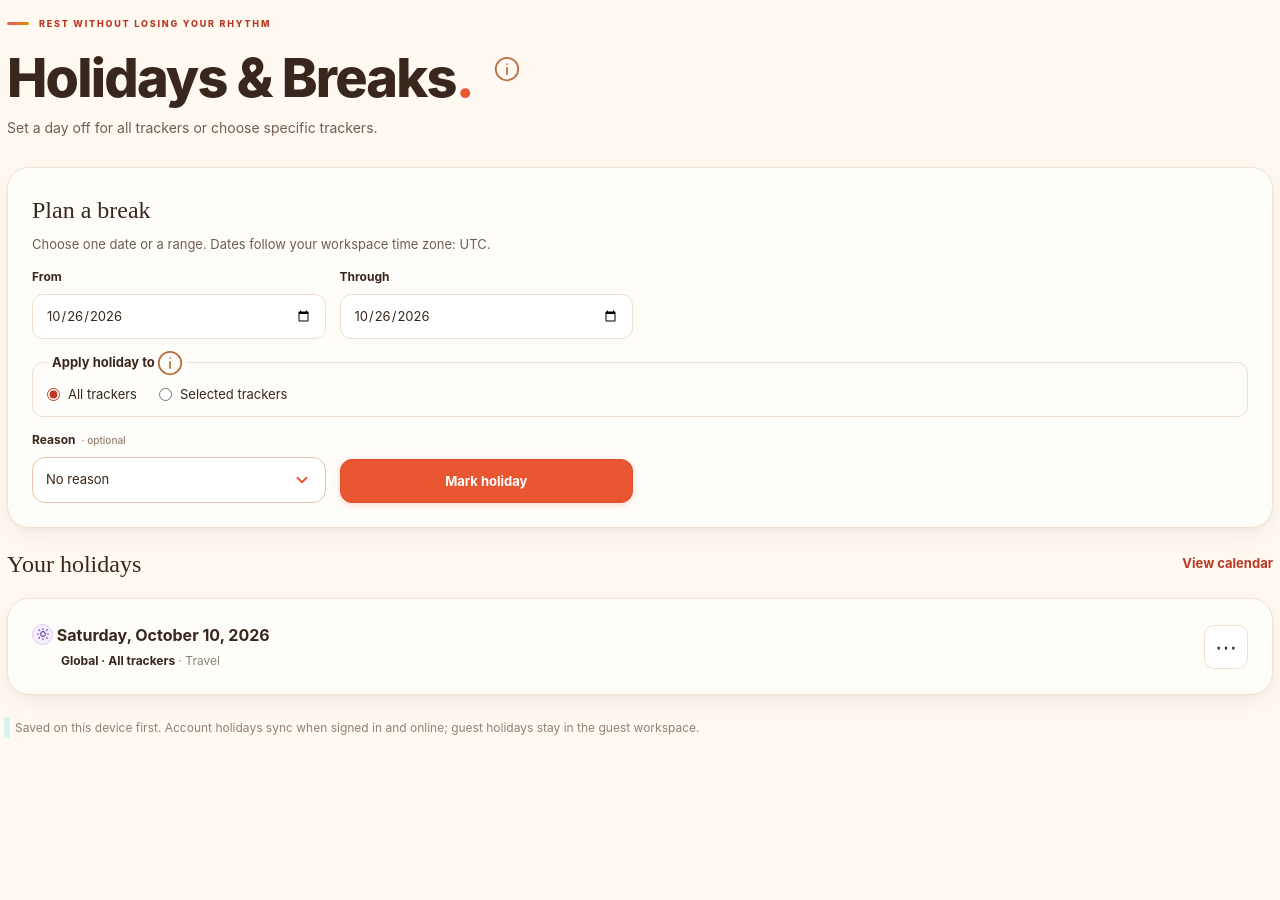
Test case: Manage Holidays › saves date only changes while preserving the holiday identity
The width and height of the screenshot is (1280, 900).
Step 1. Click the button named "More actions for 2026-10-10" → [1226, 646], box [1204,624,1248,668]
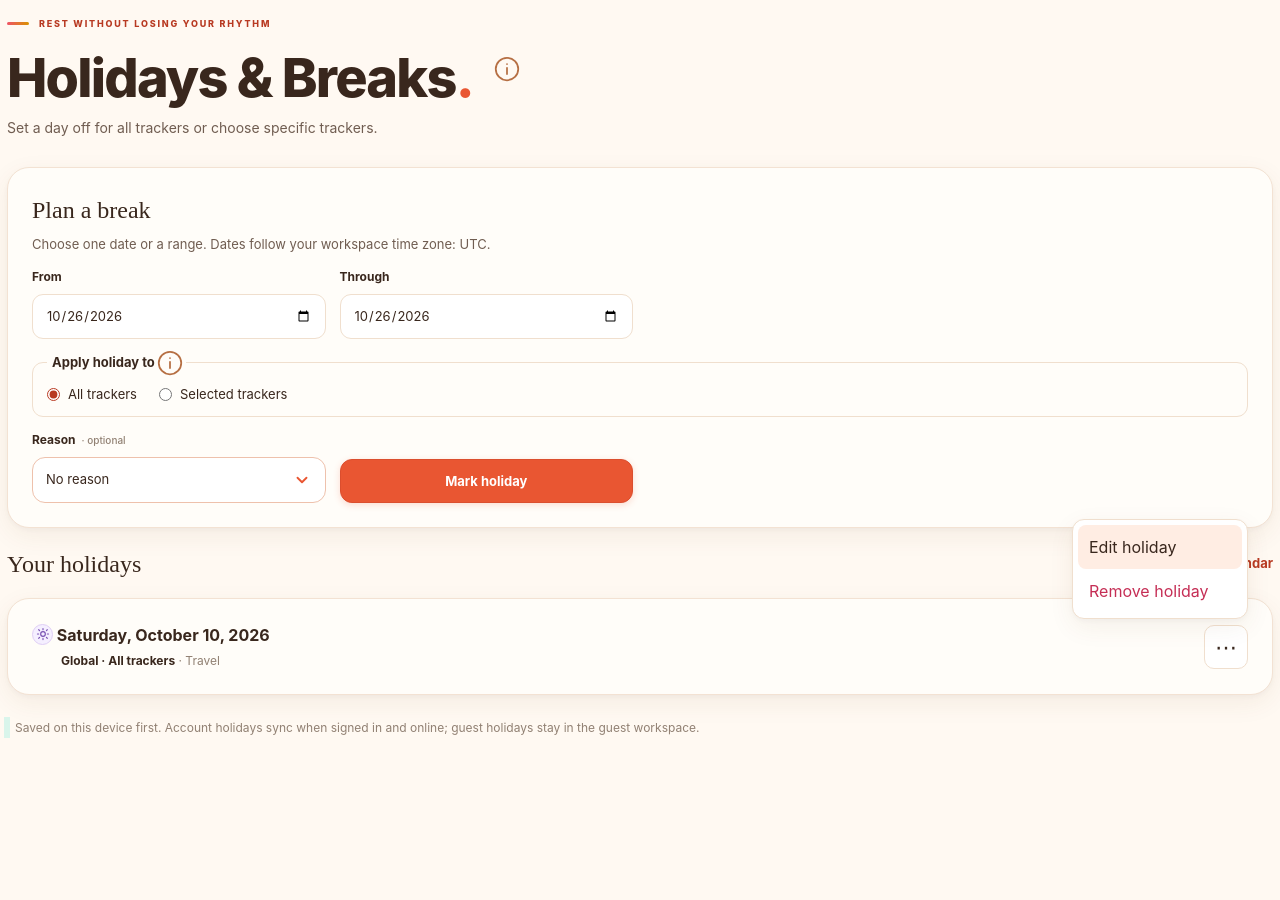
Step 2. Click the menu item "Edit holiday" → [1160, 546], box [1078,524,1242,568]
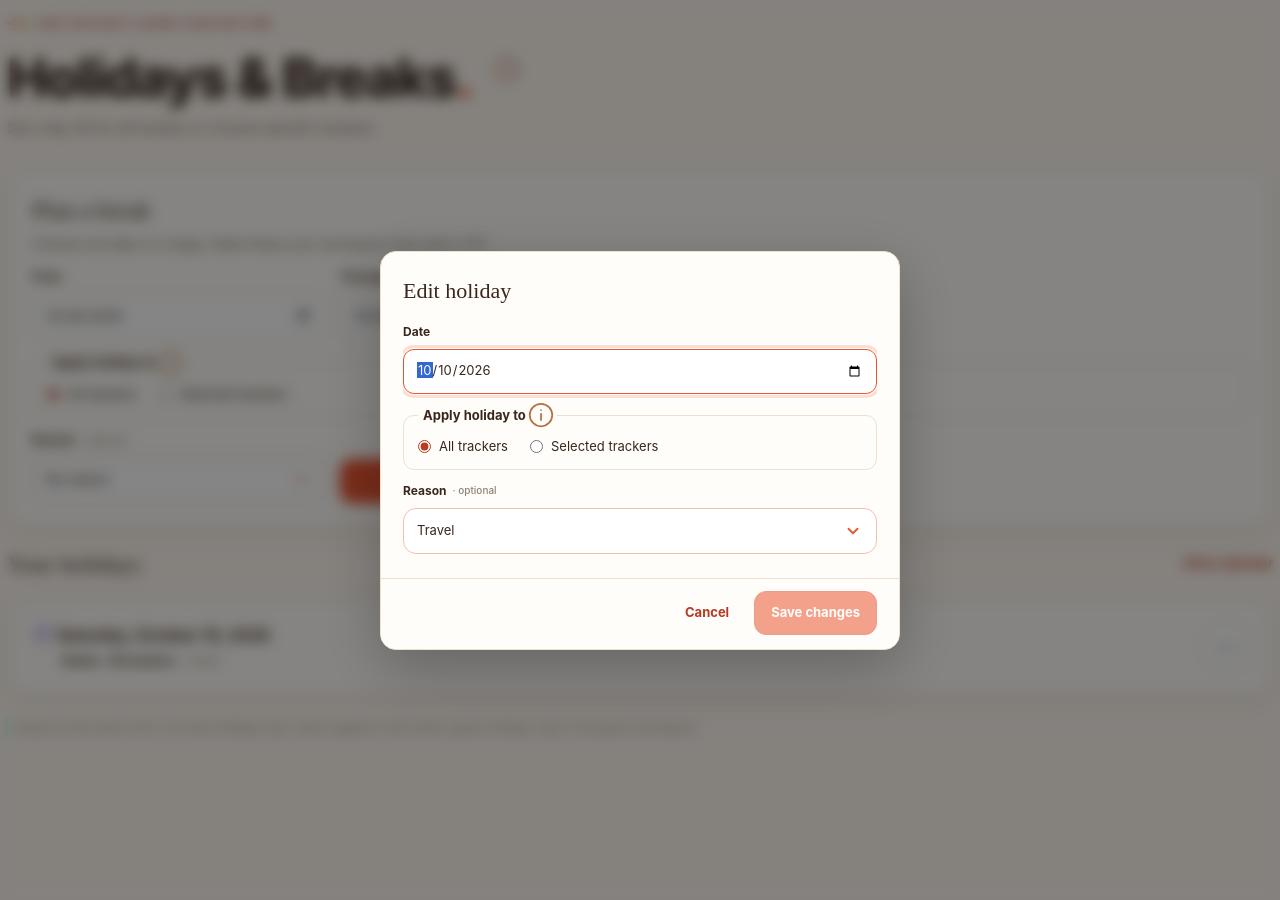
Step 3. Type "2026-10-11" into the date field labelled "Date" → [640, 371], box [403,348,877,394]
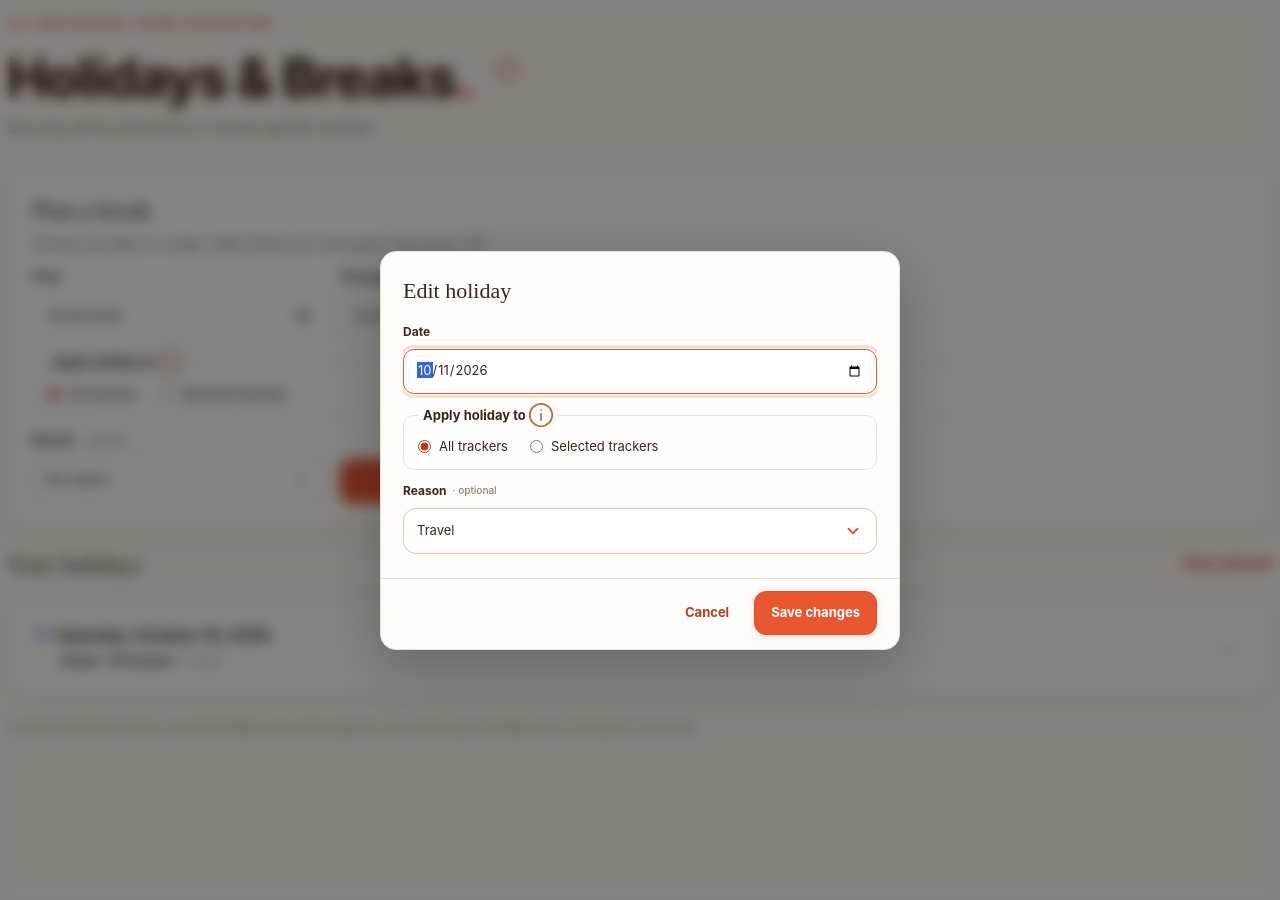
Step 4. Select "Travel" in the dropdown labelled "Reason" → [640, 530], box [403,508,877,554]
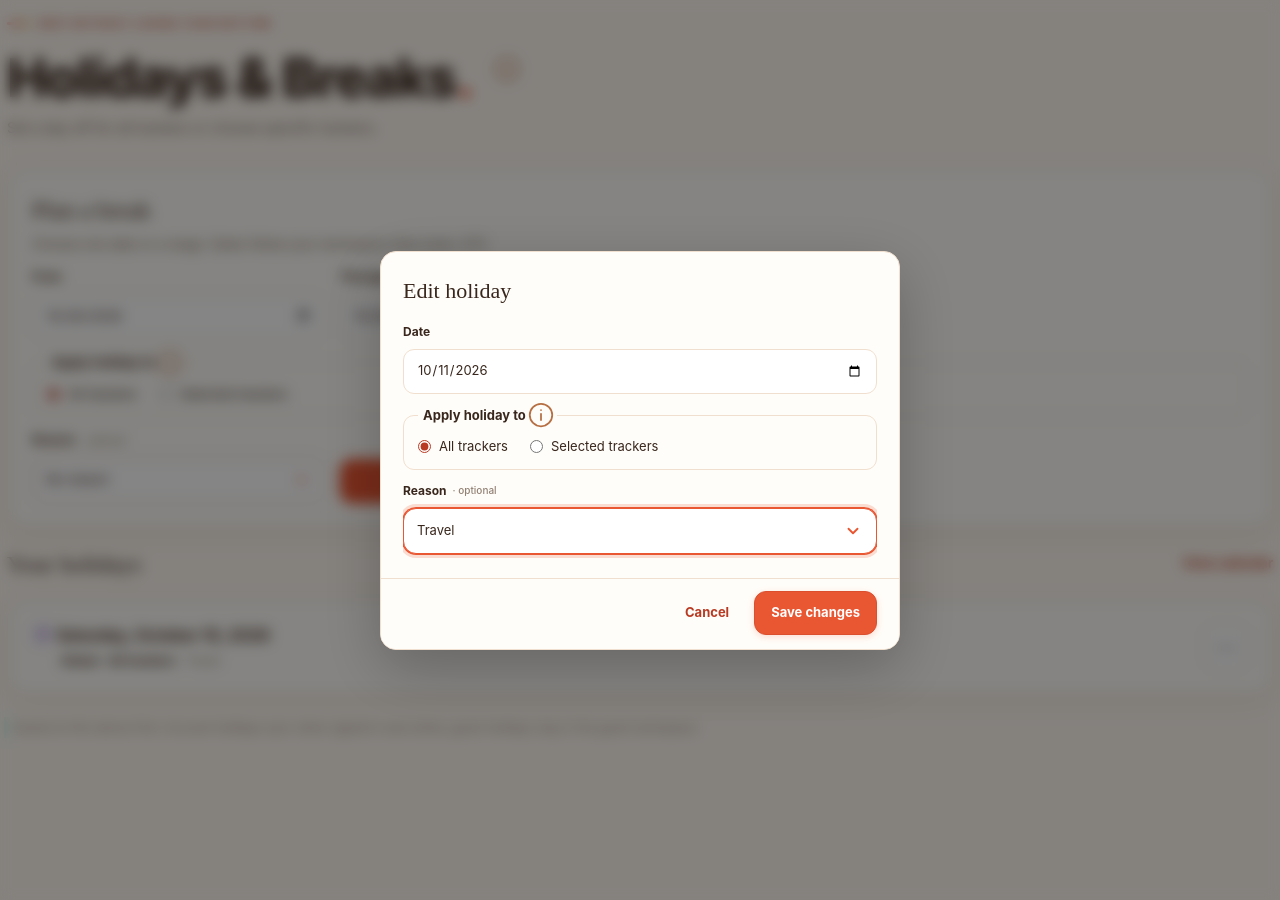
Step 5. Click the button "Save changes" → [816, 612], box [754,590,877,634]
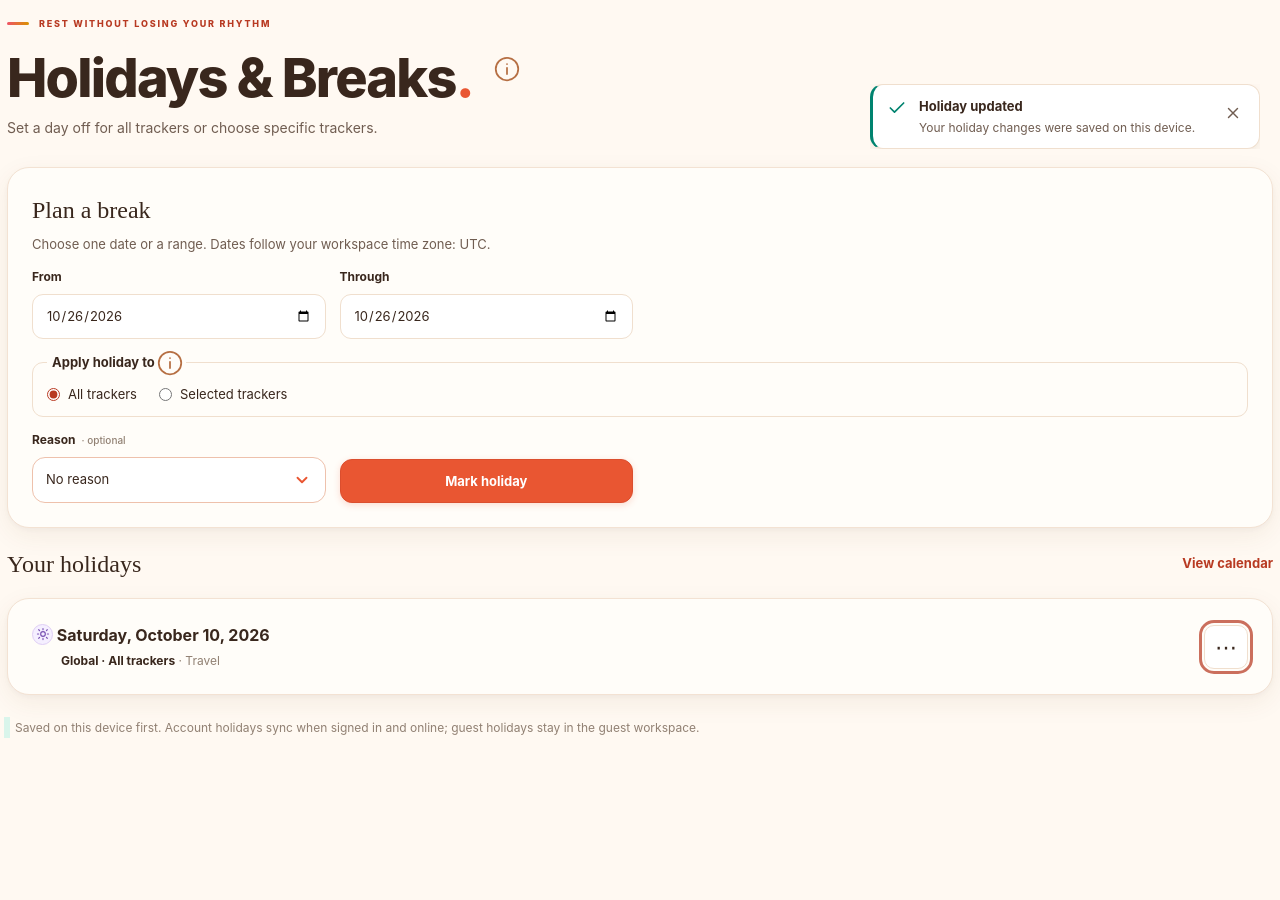
Expected: the message "Holiday updated" is shown, [870,84,1260,149]
